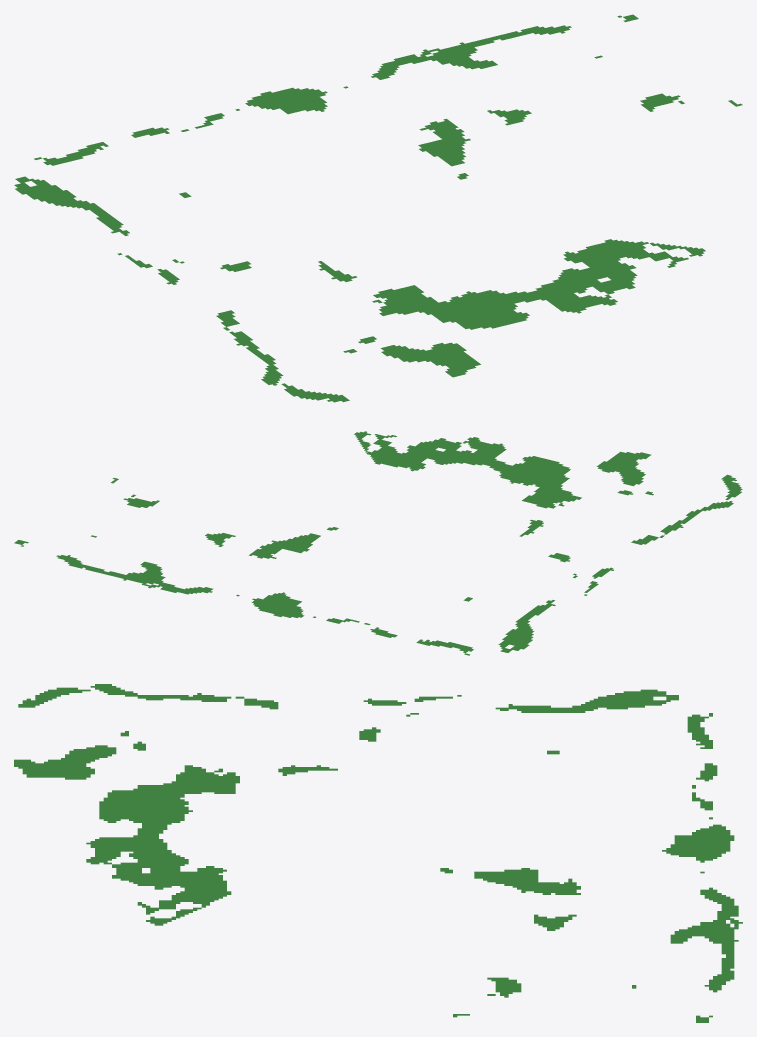
Rendered from Map-2-TreesArea.fbx.
3 views of the same model, one above another, from view 1: azimuth 30°, elevation 25°; view 2: azimuth 150°, elevation 25°; view 3: azimuth 270°, elevation 25° (orthographic). The views are drawn at different scales.
Parts seen in each view (by area): view 1: Map-2-TreesArea; view 2: Map-2-TreesArea; view 3: Map-2-TreesArea.
Part boxes in pixels (bbox=[...]): Map-2-TreesArea: bbox=[14, 14, 742, 402]; Map-2-TreesArea: bbox=[14, 431, 742, 655]; Map-2-TreesArea: bbox=[14, 684, 742, 1022].
Size of the model in its own units: 188 by 0 by 171.
